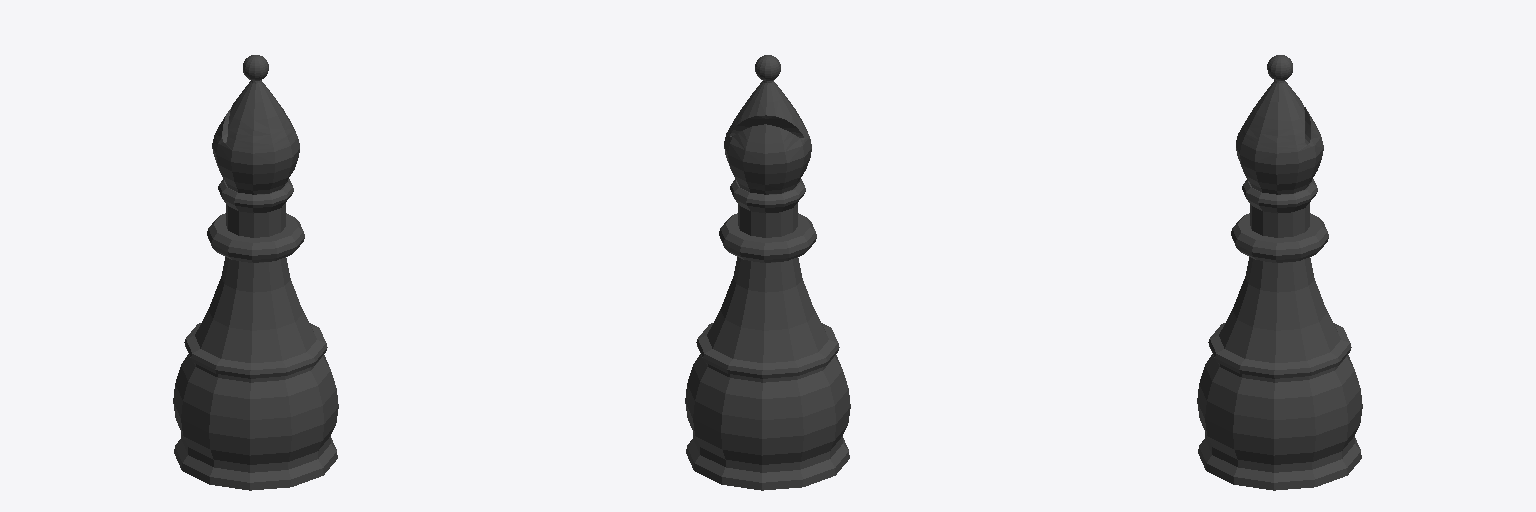
3 views of the same model, side by side, from view 1: azimuth 30°, elevation 25°; view 2: azimuth 150°, elevation 25°; view 3: azimuth 270°, elevation 25° (orthographic).
Parts seen in each view (by area): view 1: _Bishop; view 2: _Bishop; view 3: _Bishop.
Part boxes in pixels (bbox=[...]): _Bishop: bbox=[173, 55, 338, 490]; _Bishop: bbox=[685, 55, 850, 490]; _Bishop: bbox=[1197, 55, 1362, 490].
Bounding box in the file's own units: 2.6 × 6.94 × 2.6.